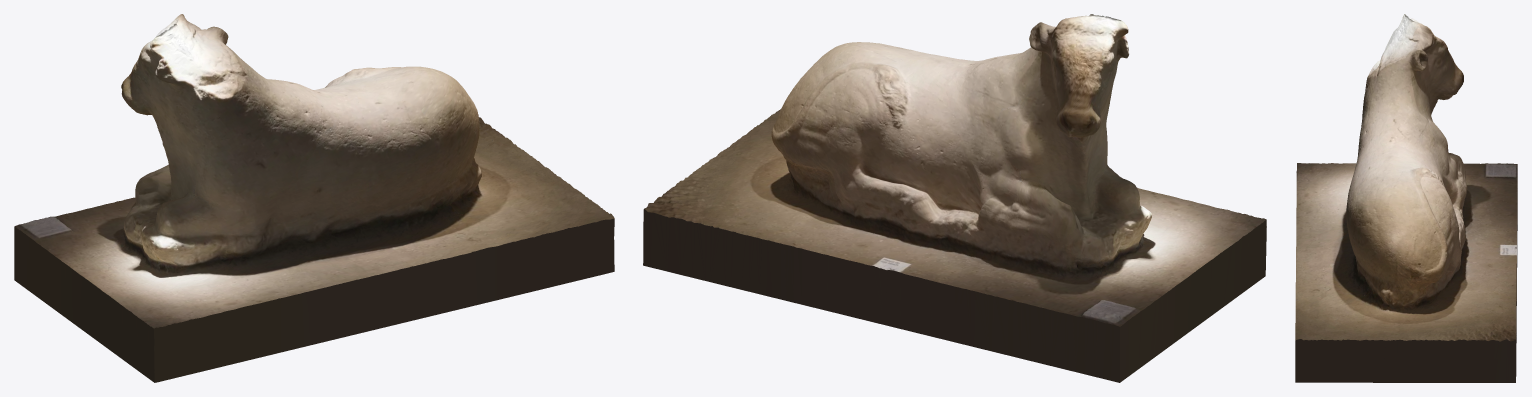
The model's file is preview.glb.
3 views of the same model, side by side, from view 1: azimuth 30°, elevation 25°; view 2: azimuth 150°, elevation 25°; view 3: azimuth 270°, elevation 25° (orthographic). The views are drawn at different scales.
Visible parts, largest first — view 1: Object_2; view 2: Object_2; view 3: Object_2.
Boxes of the visible parts, bbox=[...] form: Object_2: bbox=[14, 14, 614, 382]; Object_2: bbox=[643, 14, 1266, 382]; Object_2: bbox=[1295, 14, 1517, 382].
Bounding box in the file's own units: 8.03 × 4.7 × 4.27.
Materials: 1 (1 with a texture image).
